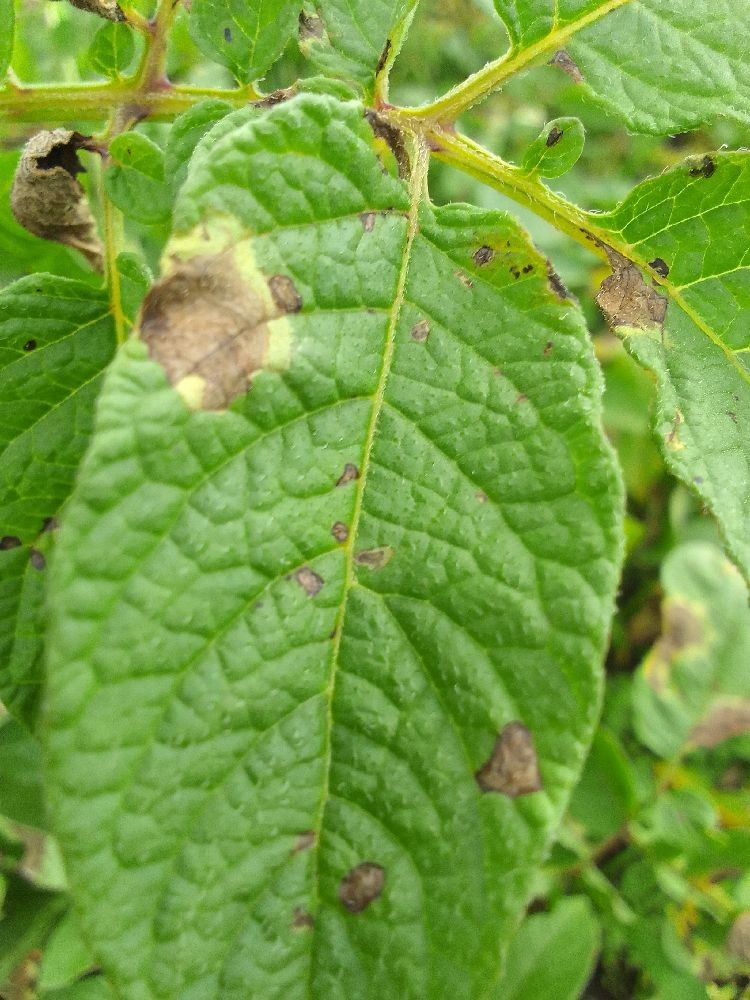late_blight: (116, 234, 317, 430), (579, 452, 722, 707), (0, 111, 128, 292), (464, 712, 552, 809)
